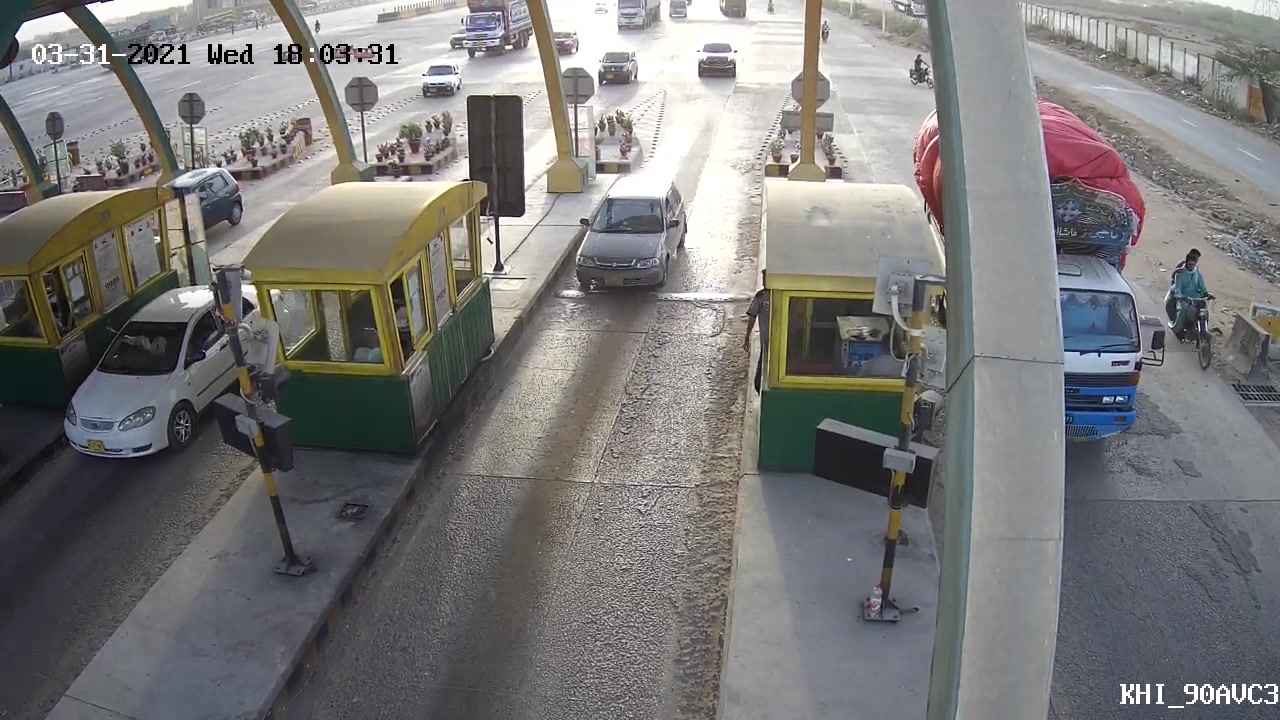F1: (547, 171, 696, 308)
